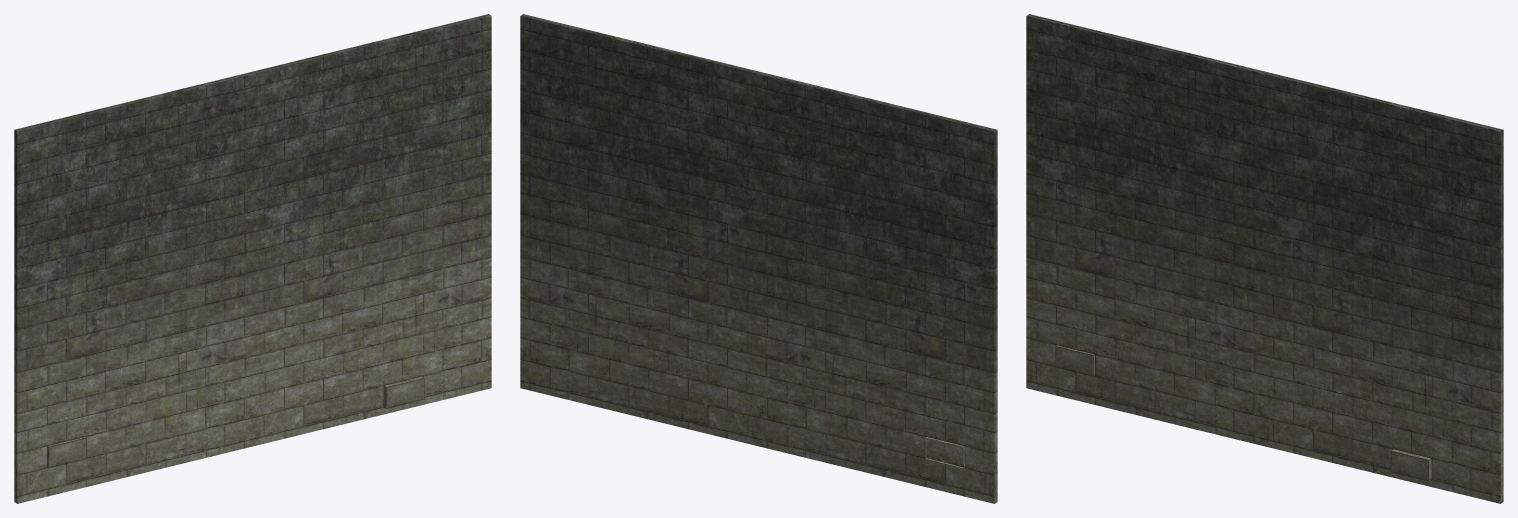
File: wall1transitionmoist.fbx
3 views of the same model, side by side, from view 1: azimuth 30°, elevation 25°; view 2: azimuth 150°, elevation 25°; view 3: azimuth 330°, elevation 25° (orthographic).
Visible parts, largest first — view 1: Mesh Object; view 2: Mesh Object; view 3: Mesh Object.
Boxes of the visible parts, x1,y1,x2,y2 form: Mesh Object: (14,14,491,503); Mesh Object: (520,14,997,503); Mesh Object: (1026,14,1503,503).
Bounding box in the file's own units: 4 × 3 × 0.0899.
